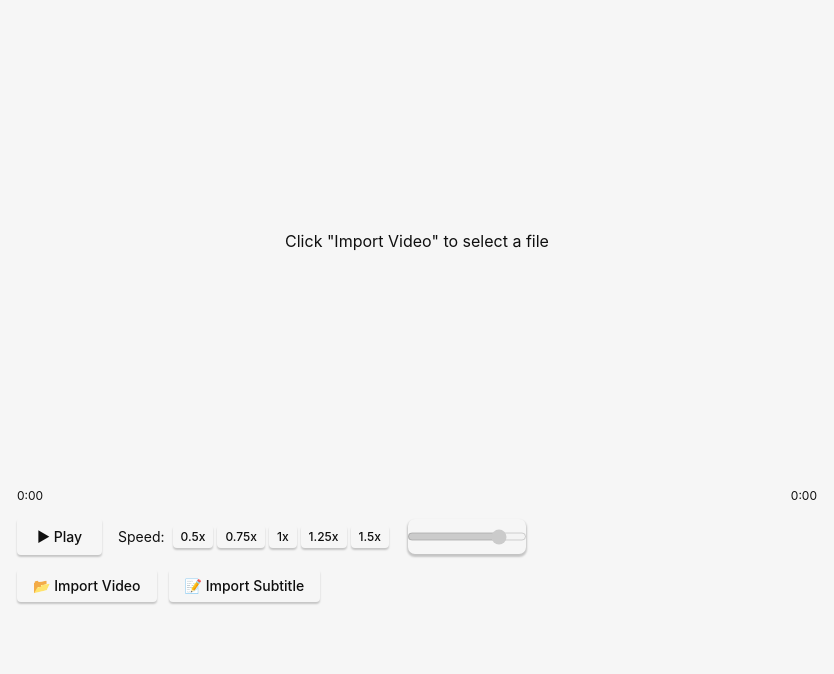
Test: VideoPlayer › shows error when video import fails
Click the button "📂 Import Video" at (87, 586), box [17, 569, 156, 602]
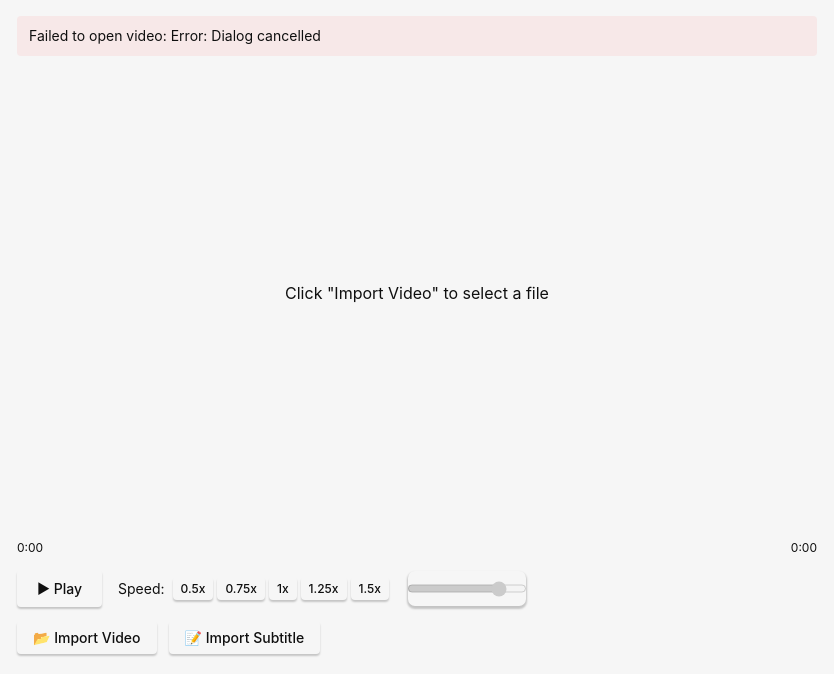
Check: the text "Failed to open video: Error: Dialog cancelled" is shown, box [17, 16, 817, 56]
